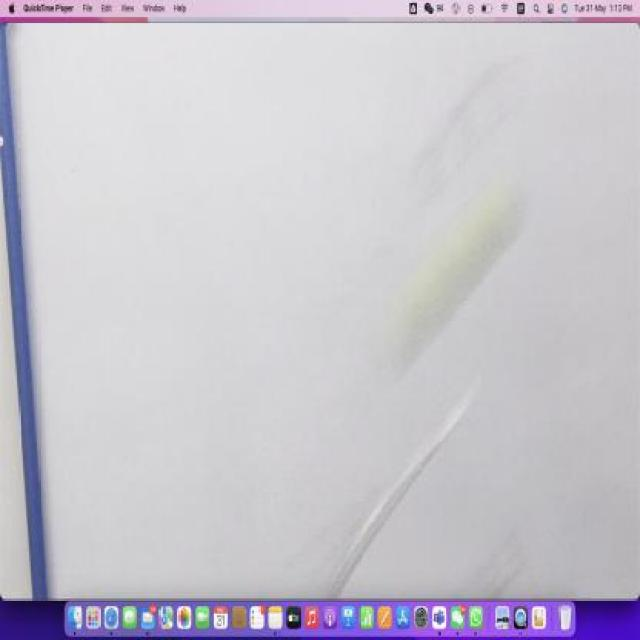baseball: (388, 182, 530, 373)
